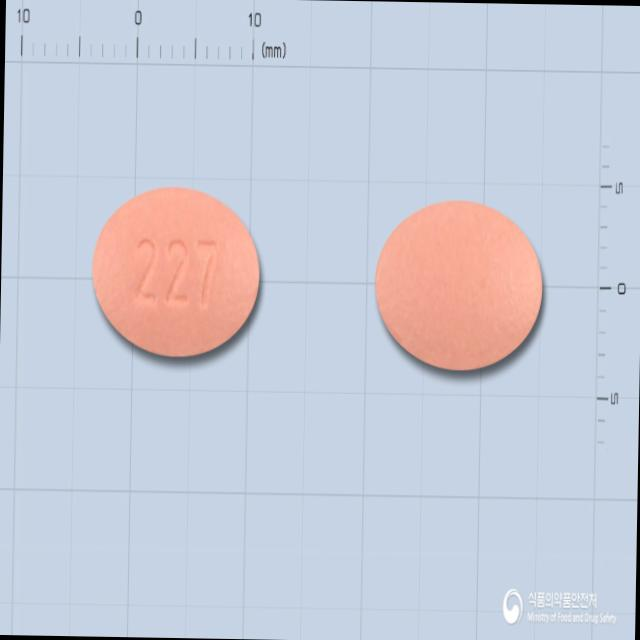Isentress HD: (90, 184, 262, 358)
